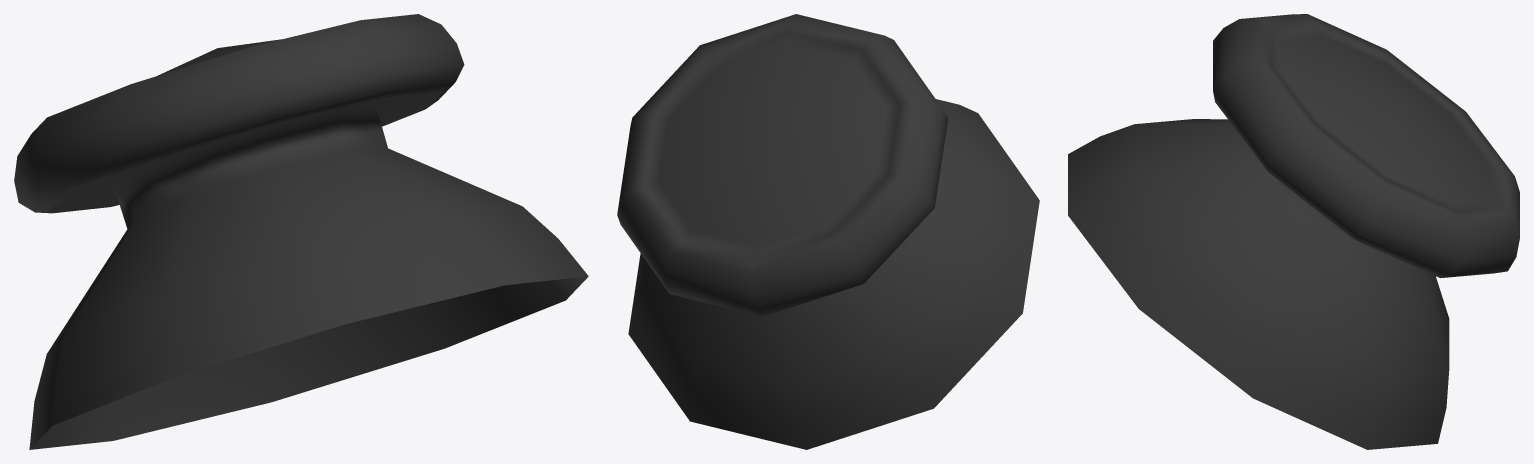
Rendered from crystal_controller_left_button3.obj.
3 views of the same model, side by side, from view 1: azimuth 30°, elevation 25°; view 2: azimuth 150°, elevation 25°; view 3: azimuth 270°, elevation 25° (orthographic). The views are drawn at different scales.
Parts seen in each view (by area): view 1: crystal_controller_left_button3; view 2: crystal_controller_left_button3; view 3: crystal_controller_left_button3.
Part boxes in pixels (x1,y1,x2,y2): crystal_controller_left_button3: (14,14,588,449); crystal_controller_left_button3: (617,14,1039,449); crystal_controller_left_button3: (1068,14,1519,449).
Bounding box in the file's own units: 0.019 × 0.0167 × 0.0183.
1 material, 1 textured.
